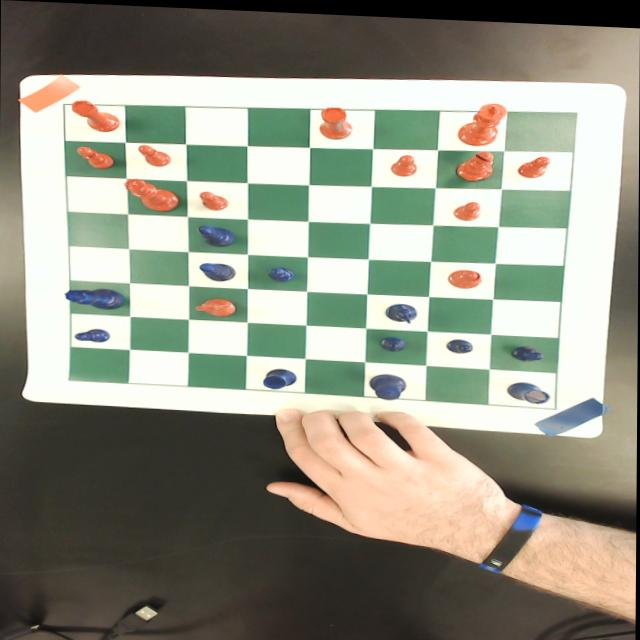B: (198, 223, 236, 245), (197, 260, 236, 280)
K: (368, 370, 406, 397)
N: (381, 298, 422, 320)
P: (509, 340, 544, 358), (73, 327, 111, 343), (268, 263, 295, 280), (445, 335, 475, 350), (379, 333, 407, 348)
Q: (63, 287, 123, 309)
R: (506, 376, 550, 401), (262, 365, 297, 388)
b: (456, 146, 496, 179), (447, 264, 483, 285)
k: (456, 97, 507, 143)
n: (194, 294, 237, 316)
p: (74, 145, 115, 169), (516, 150, 551, 175), (137, 143, 171, 166), (388, 151, 417, 174), (452, 196, 482, 217), (198, 189, 228, 209)
q: (123, 177, 178, 211)
r: (69, 99, 120, 132), (317, 104, 353, 137)
